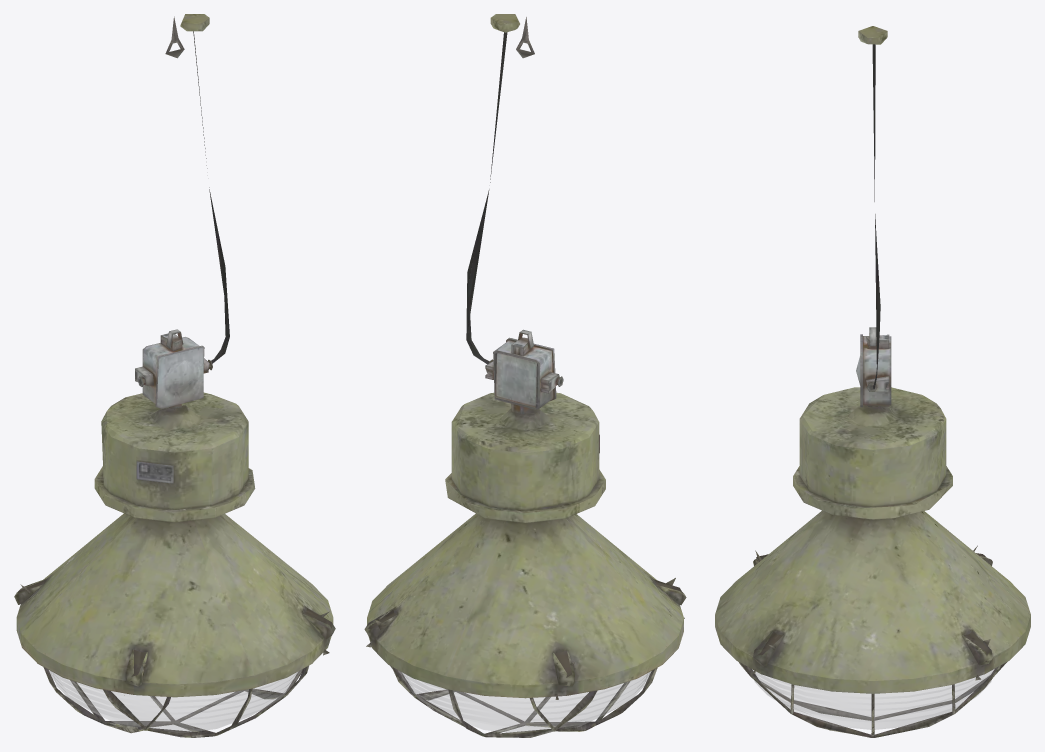
File: hanging_industrial_lamp.glb
3 renders of one model, left to right at view 1: azimuth 30°, elevation 25°; view 2: azimuth 150°, elevation 25°; view 3: azimuth 270°, elevation 25°, orthographic.
Parts seen in each view (by area): view 1: hanging_industrial_lamp; view 2: hanging_industrial_lamp; view 3: hanging_industrial_lamp.
Boxes of the visible parts, bbox=[...] form: hanging_industrial_lamp: bbox=[14, 14, 335, 737]; hanging_industrial_lamp: bbox=[364, 14, 686, 737]; hanging_industrial_lamp: bbox=[715, 26, 1030, 737].
Size of the model in its own units: 0.5496 by 1.36 by 0.5496.
2 materials, 1 textured.
